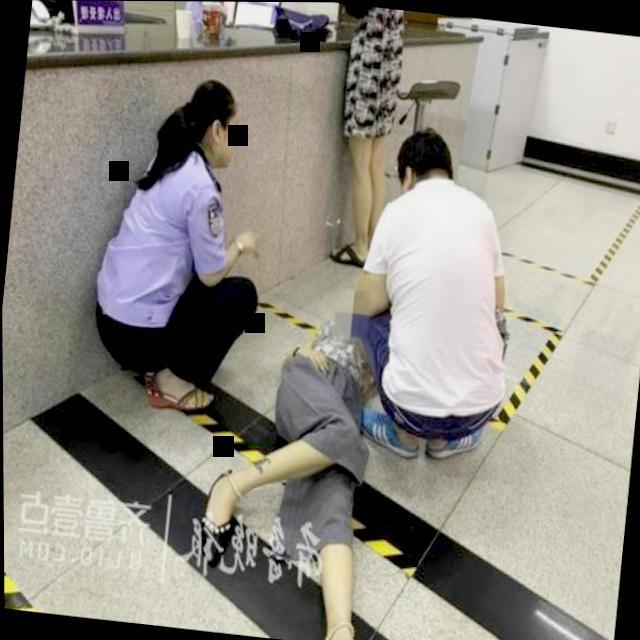Fall-Detected: (191, 264, 422, 640)
